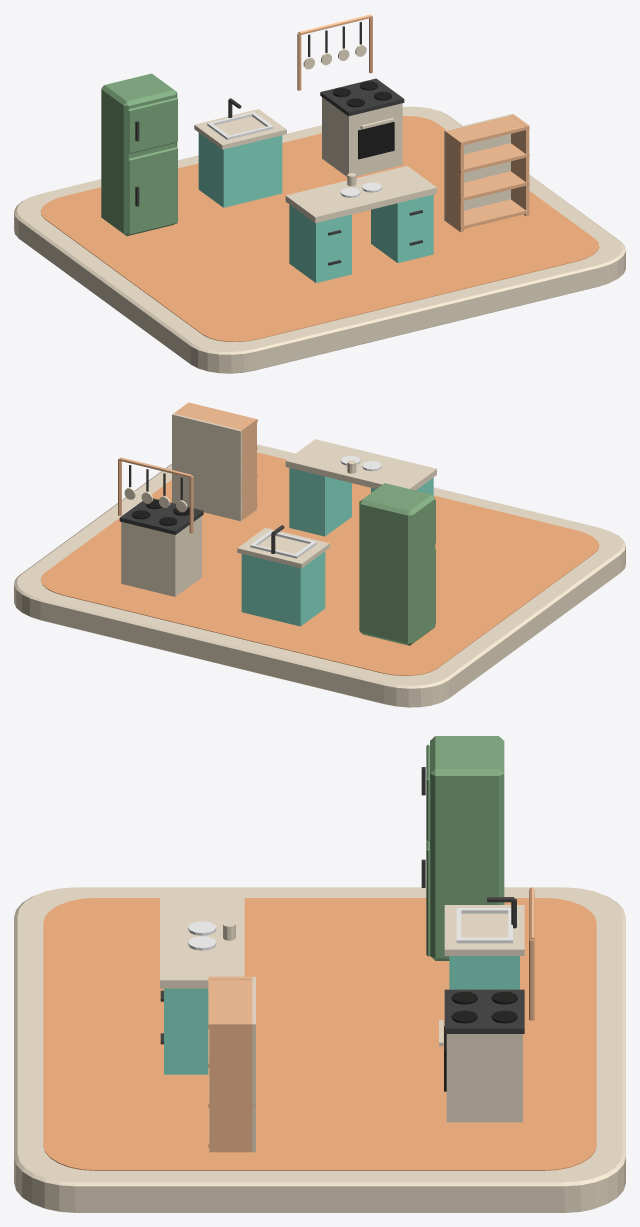
Rendered from room.fbx.
The picture shows the model from 3 angles, top to bottom: view 1: azimuth 30°, elevation 25°; view 2: azimuth 150°, elevation 25°; view 3: azimuth 270°, elevation 25°; orthographic projection. The views are drawn at different scales.
Visible parts, largest first — view 1: COM-02 Floor Surface, COM-01 Rounded Base Direct, Cabinet, Cabinet.001, Worktop, Stove, Door, Storage module, Storage module.001, Door.001, Counter, Back (+8 smaller); view 2: COM-02 Floor Surface, COM-01 Rounded Base Direct, Cabinet, Back, Stove, Cabinet.001, Worktop, Storage module.001, Counter, Side, Hob, Shelf.003; view 3: COM-02 Floor Surface, COM-01 Rounded Base Direct, Cabinet, Stove, Worktop, Side.001, Storage module.001, Counter, Hob, Cabinet.001, Shelf.003, Back.
Boxes of the visible parts, x1,y1,x2,y2 form: COM-02 Floor Surface: (40, 116, 599, 341); COM-01 Rounded Base Direct: (14, 106, 625, 373); Cabinet: (101, 73, 177, 236); Cabinet.001: (198, 133, 282, 207); Worktop: (285, 166, 436, 223); Stove: (322, 97, 402, 176); Door: (128, 147, 177, 234); Storage module: (289, 204, 351, 282); Storage module.001: (371, 194, 433, 262); Door.001: (128, 97, 177, 153); Counter: (194, 109, 286, 149); Back: (444, 114, 513, 220); COM-02 Floor Surface: (40, 452, 599, 675); COM-01 Rounded Base Direct: (14, 444, 625, 707); Cabinet: (359, 483, 435, 645); Back: (172, 413, 241, 521); Stove: (121, 516, 201, 596); Cabinet.001: (241, 551, 325, 626); Worktop: (285, 439, 436, 490); Storage module.001: (289, 468, 351, 536); Counter: (237, 527, 329, 568); Side: (238, 418, 256, 519); Hob: (119, 498, 203, 534); Shelf.003: (177, 402, 257, 433); COM-02 Floor Surface: (43, 898, 596, 1170); COM-01 Rounded Base Direct: (14, 887, 625, 1212); Cabinet: (430, 736, 504, 960); Stove: (446, 1034, 522, 1122); Worktop: (160, 895, 244, 988); Side.001: (209, 1022, 253, 1152); Storage module.001: (164, 988, 208, 1074); Counter: (444, 905, 524, 955); Hob: (444, 989, 524, 1033); Cabinet.001: (449, 956, 519, 989); Shelf.003: (208, 976, 255, 1028); Back: (252, 976, 255, 1152).
Bounding box in the file's own units: 600 × 210 × 520.
